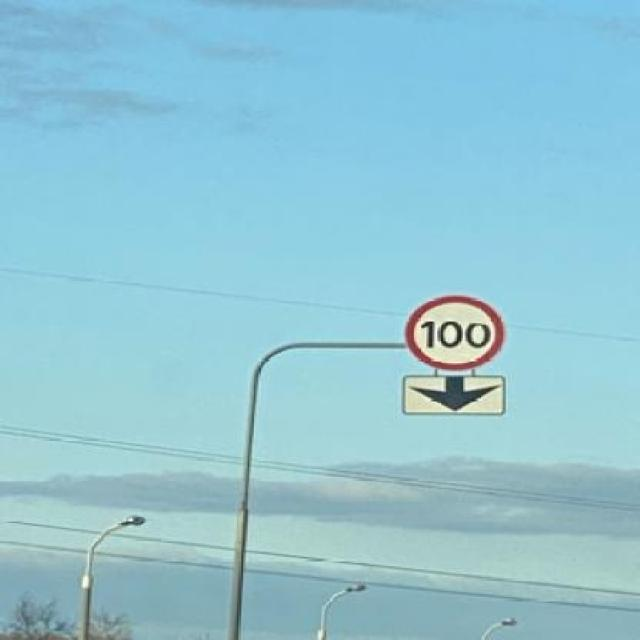forb_speed_over_100: (409, 298, 508, 370)
